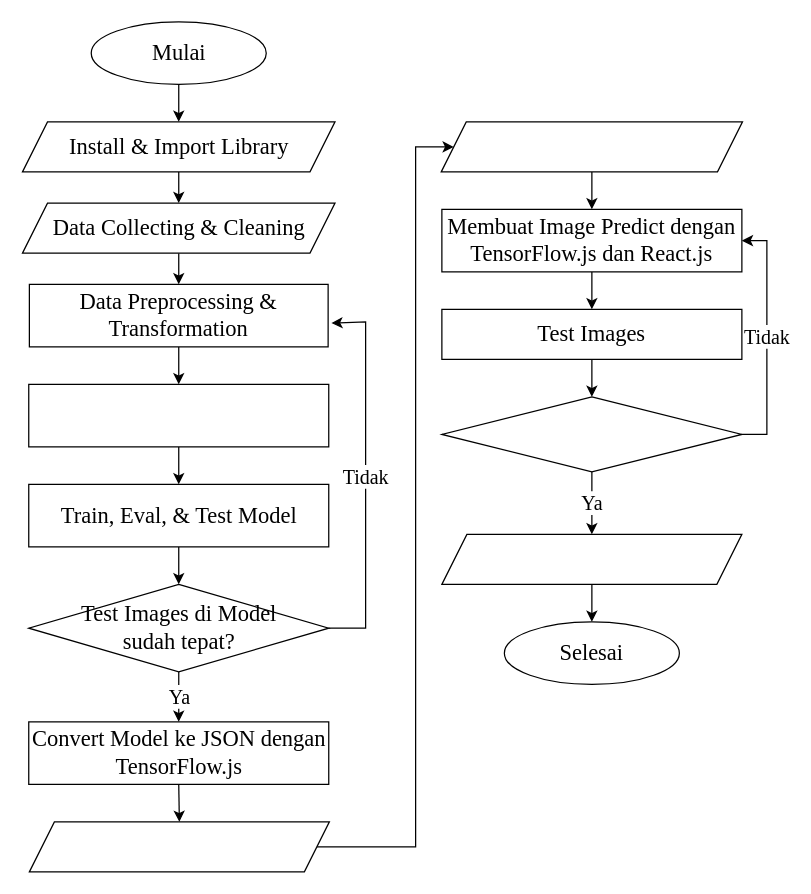
Some shapes in this 811 by 894 pixel diagram are drawn without their labels. Here are the shapes that lost their labels. From the top down, the centre of each, then its label:
At (x=591, y=146): "Import Final Model ke Web".
At (x=178, y=415): "Membuat Layer & Model".
At (x=591, y=434): "Test Images di Web sudah tepat?".
At (x=591, y=558): "Deployment".
At (x=178, y=846): "Export Final Model".
